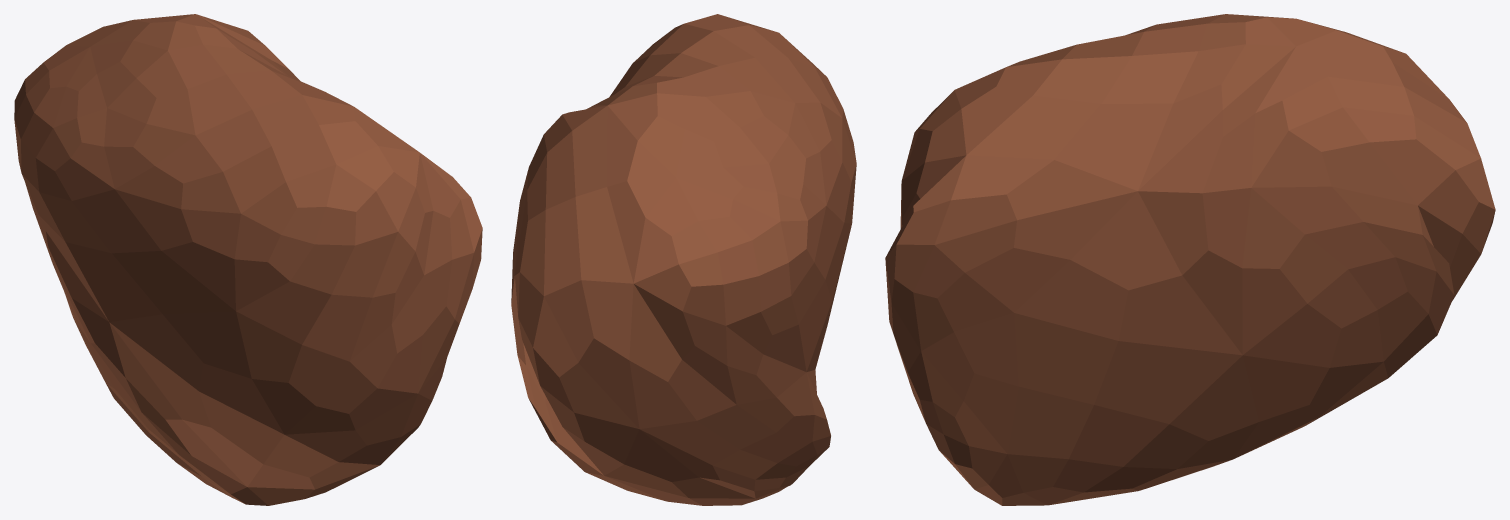
File: Asteroid.glb
3 renders of one model, left to right at view 1: azimuth 30°, elevation 25°; view 2: azimuth 150°, elevation 25°; view 3: azimuth 270°, elevation 25°, orthographic. The views are drawn at different scales.
Parts seen in each view (by area): view 1: Asteroid; view 2: Asteroid; view 3: Asteroid.
Boxes of the visible parts, x1,y1,x2,y2 form: Asteroid: [14, 14, 482, 505]; Asteroid: [511, 14, 856, 505]; Asteroid: [885, 14, 1495, 505].
Bounding box in the file's own units: 8.27 × 11.56 × 13.55.
1 material, 1 textured.
